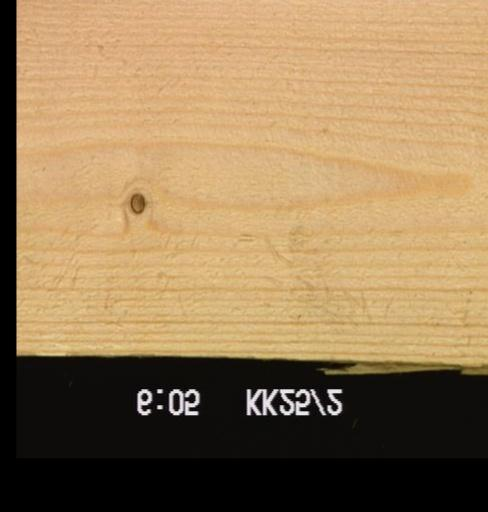dry_knot: (126, 191, 146, 216)
